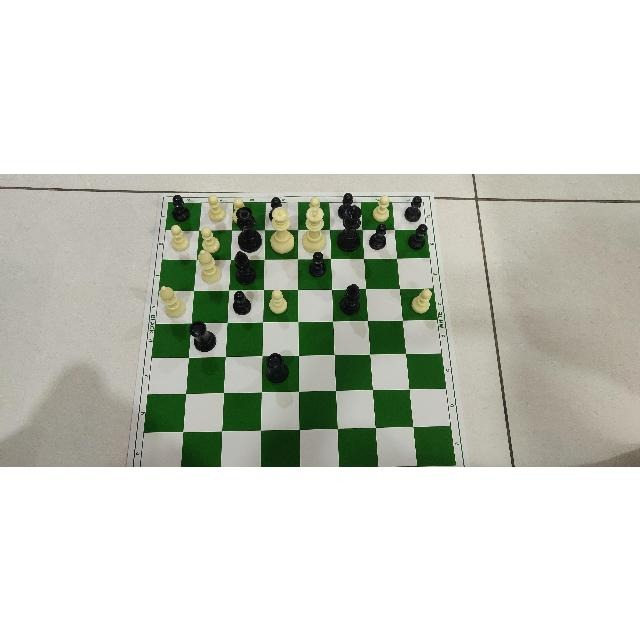black-bishop: (233, 250, 259, 284), (339, 282, 362, 316)
black-king: (336, 204, 361, 253)
black-pawn: (336, 191, 361, 219), (169, 192, 191, 221), (231, 290, 254, 316), (407, 223, 429, 250), (307, 250, 327, 278), (403, 194, 423, 221), (269, 195, 289, 220), (369, 222, 387, 249)
black-queen: (236, 205, 264, 252)
black-rook: (189, 319, 219, 353), (265, 351, 291, 384)
white-bishop: (157, 284, 186, 318), (198, 248, 224, 283)
white-king: (302, 205, 328, 253)
white-pawn: (232, 196, 256, 224), (409, 286, 432, 315), (206, 193, 227, 222), (168, 223, 190, 250), (371, 194, 391, 222), (201, 225, 221, 253), (269, 288, 289, 314), (308, 195, 326, 218)
white-queen: (270, 205, 296, 255)
